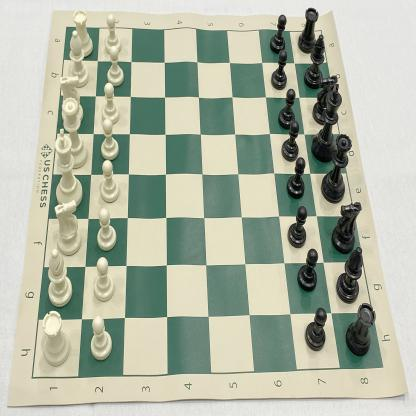bishop: (46, 248, 74, 308), (336, 247, 364, 302), (66, 30, 89, 88), (305, 32, 327, 90)
king: (52, 126, 83, 210), (312, 86, 344, 163)
knight: (331, 200, 363, 252), (52, 200, 80, 256), (312, 74, 340, 126), (58, 74, 86, 123)
pawn: (86, 315, 114, 361), (304, 306, 330, 354), (294, 246, 320, 294), (90, 257, 115, 304), (284, 204, 308, 249), (95, 206, 117, 252), (99, 160, 121, 204), (284, 157, 306, 199), (99, 118, 121, 160), (104, 46, 125, 89), (99, 82, 119, 126), (281, 121, 301, 163), (278, 88, 298, 130), (102, 12, 121, 54), (269, 13, 287, 55), (271, 50, 289, 90)
queen: (321, 131, 353, 205), (60, 96, 88, 169)
rook: (345, 302, 377, 358), (40, 310, 70, 368), (297, 3, 320, 56), (70, 7, 93, 58)
